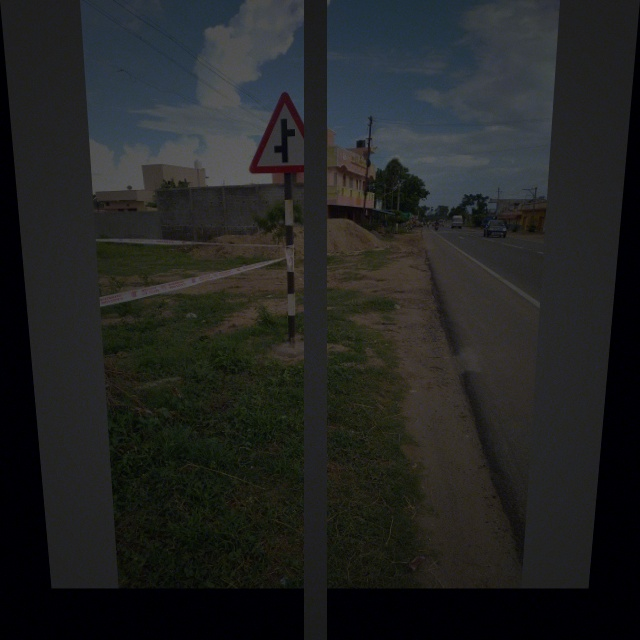Staggered_Intersection: (244, 87, 337, 183)
